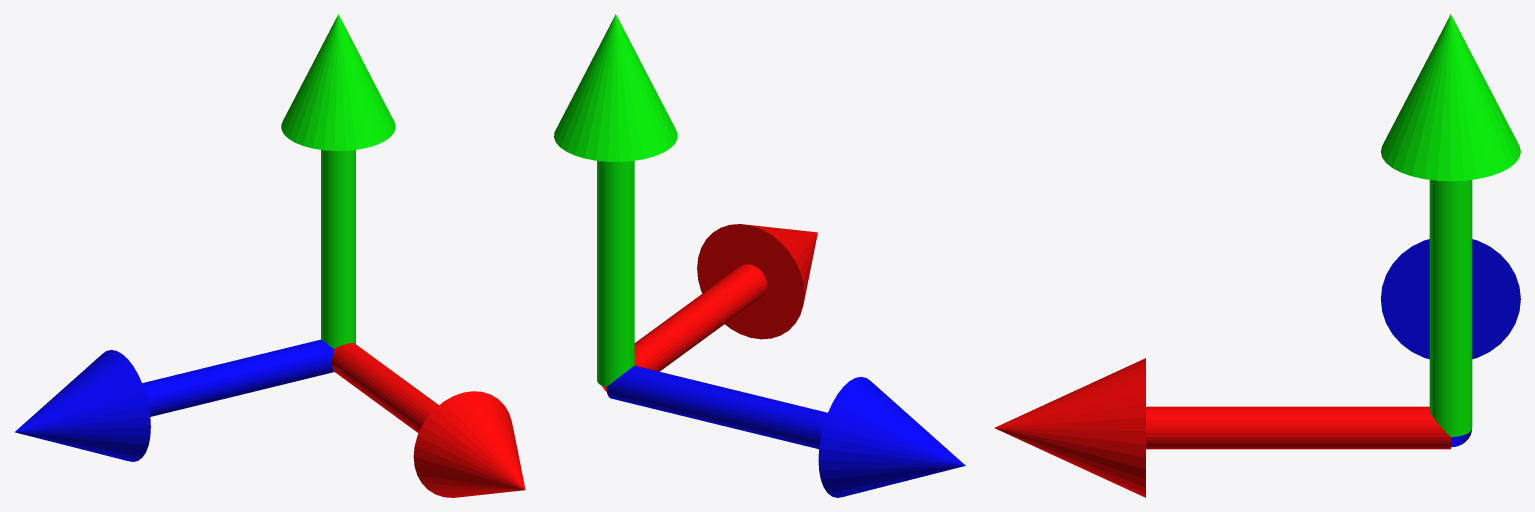
File: axis.glb
3 views of the same model, side by side, from view 1: azimuth 30°, elevation 25°; view 2: azimuth 150°, elevation 25°; view 3: azimuth 270°, elevation 25° (orthographic). The views are drawn at different scales.
Visible parts, largest first — view 1: YAXIS, ZAXIS, XAXIS; view 2: YAXIS, ZAXIS, XAXIS; view 3: YAXIS, XAXIS, ZAXIS.
Boxes of the visible parts, left/top/right/bottom form: YAXIS: left=281, top=14, right=395, bottom=348; ZAXIS: left=15, top=339, right=333, bottom=461; XAXIS: left=332, top=343, right=525, bottom=497; YAXIS: left=554, top=14, right=677, bottom=387; ZAXIS: left=606, top=365, right=965, bottom=497; XAXIS: left=602, top=224, right=817, bottom=391; YAXIS: left=1381, top=14, right=1520, bottom=436; XAXIS: left=994, top=358, right=1450, bottom=497; ZAXIS: left=1381, top=239, right=1520, bottom=447.
Bounding box in the file's own units: 1.73 × 1.73 × 1.73.
